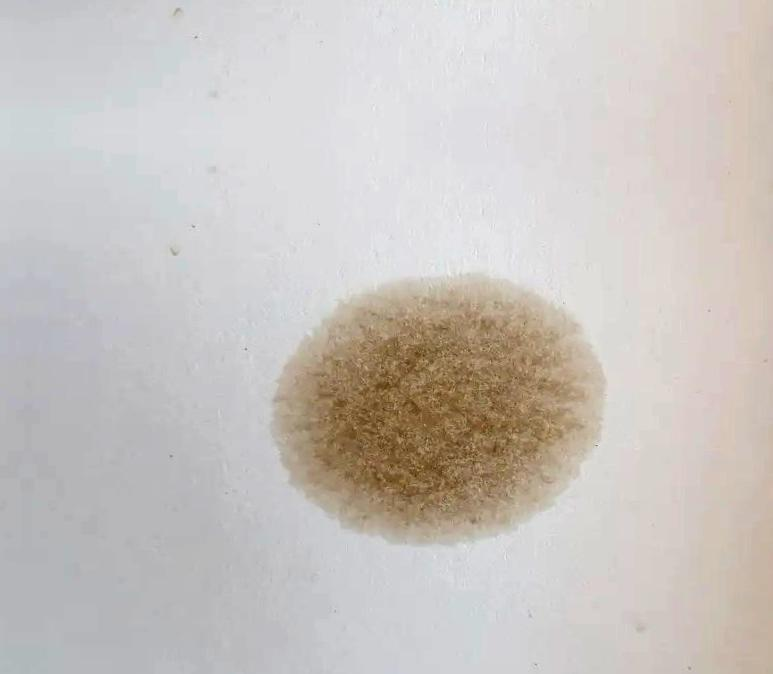stain: (263, 263, 617, 560)
